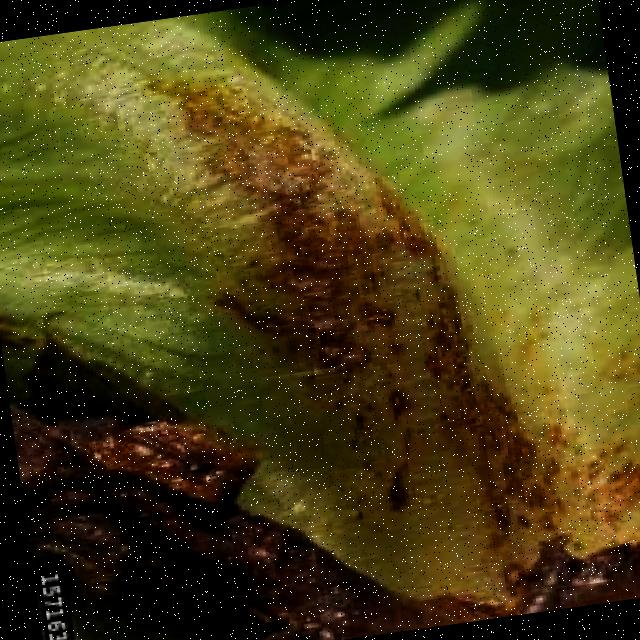Septoria_Blight_on_lettuce: (7, 31, 562, 640)
